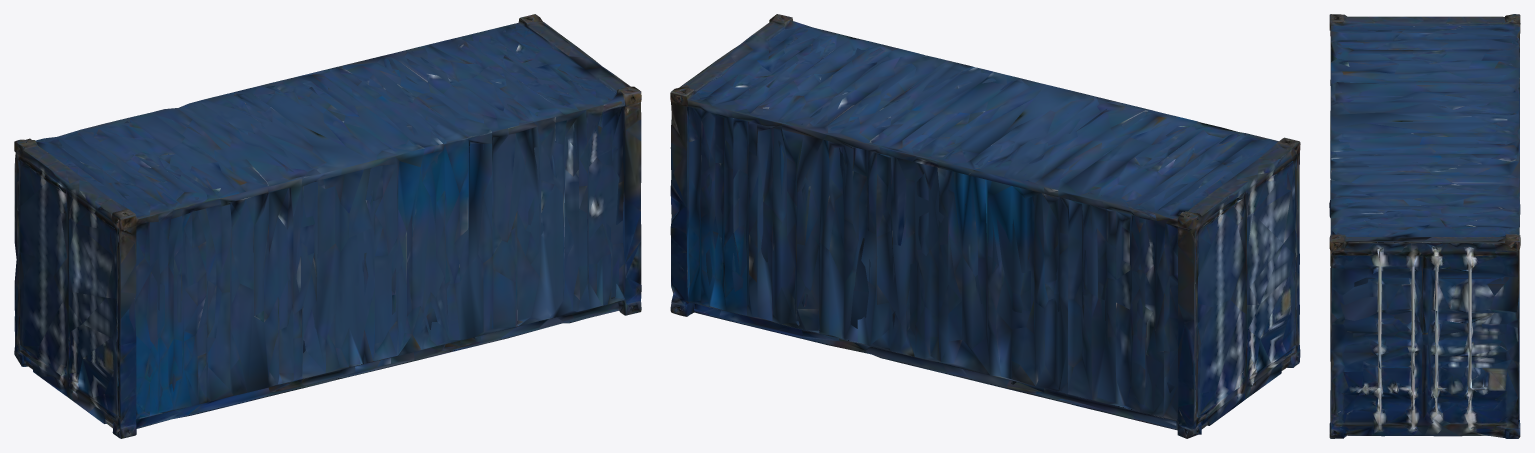
File: container_blue.glb
The picture shows the model from 3 angles, left to right: view 1: azimuth 30°, elevation 25°; view 2: azimuth 150°, elevation 25°; view 3: azimuth 270°, elevation 25°; orthographic projection. The views are drawn at different scales.
Size of the model in its own units: 1.9 by 0.7711 by 0.6745.
1 material, 1 textured.
